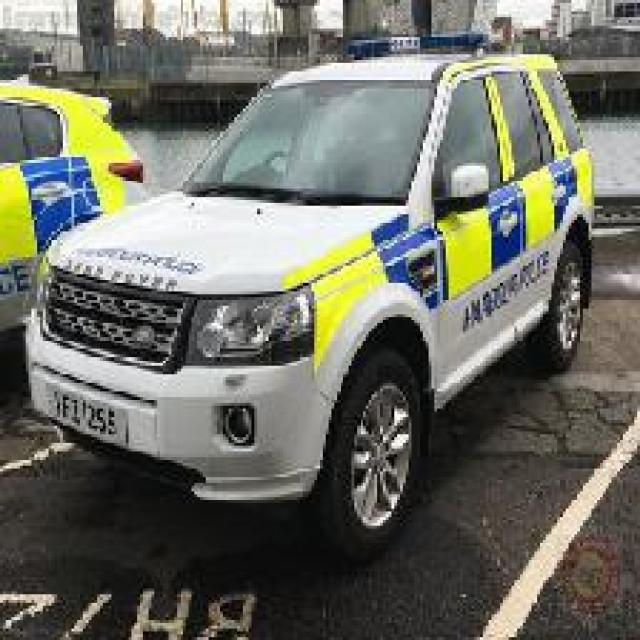Bus: (346, 29, 491, 57)
Police-car: (20, 46, 594, 563), (0, 74, 149, 377)
